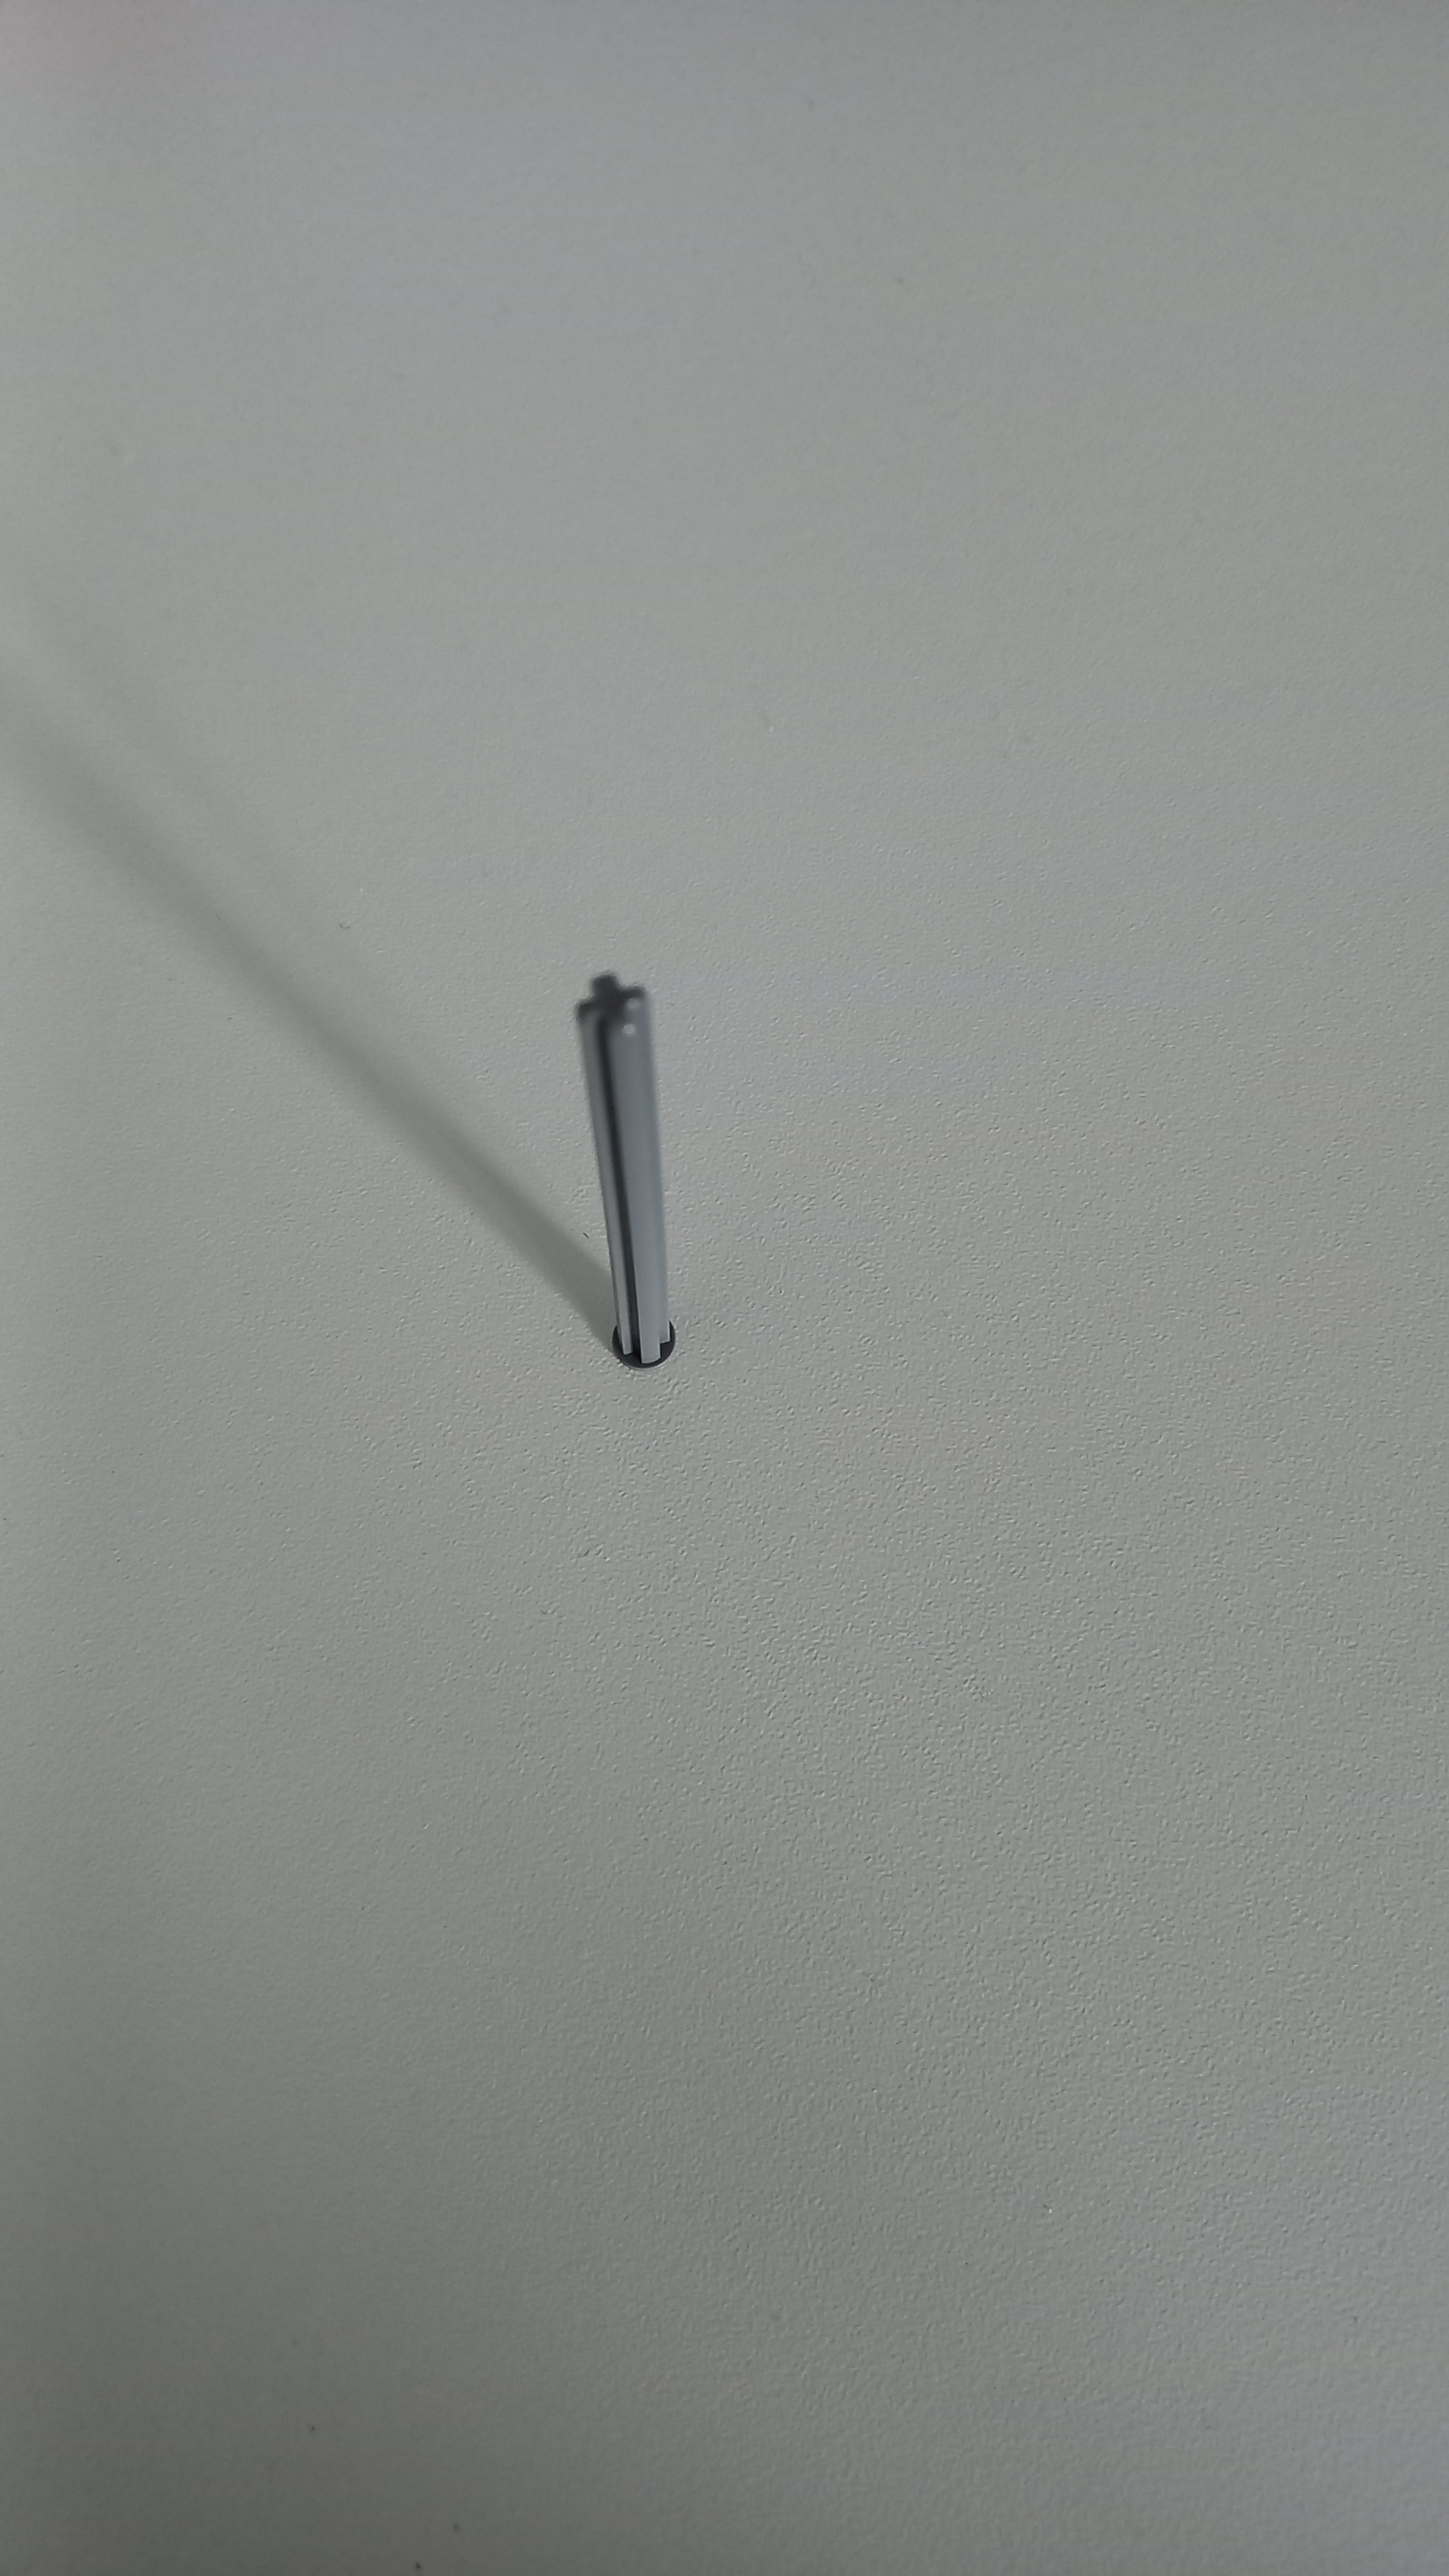Grau_lang: (540, 932, 711, 1394)
